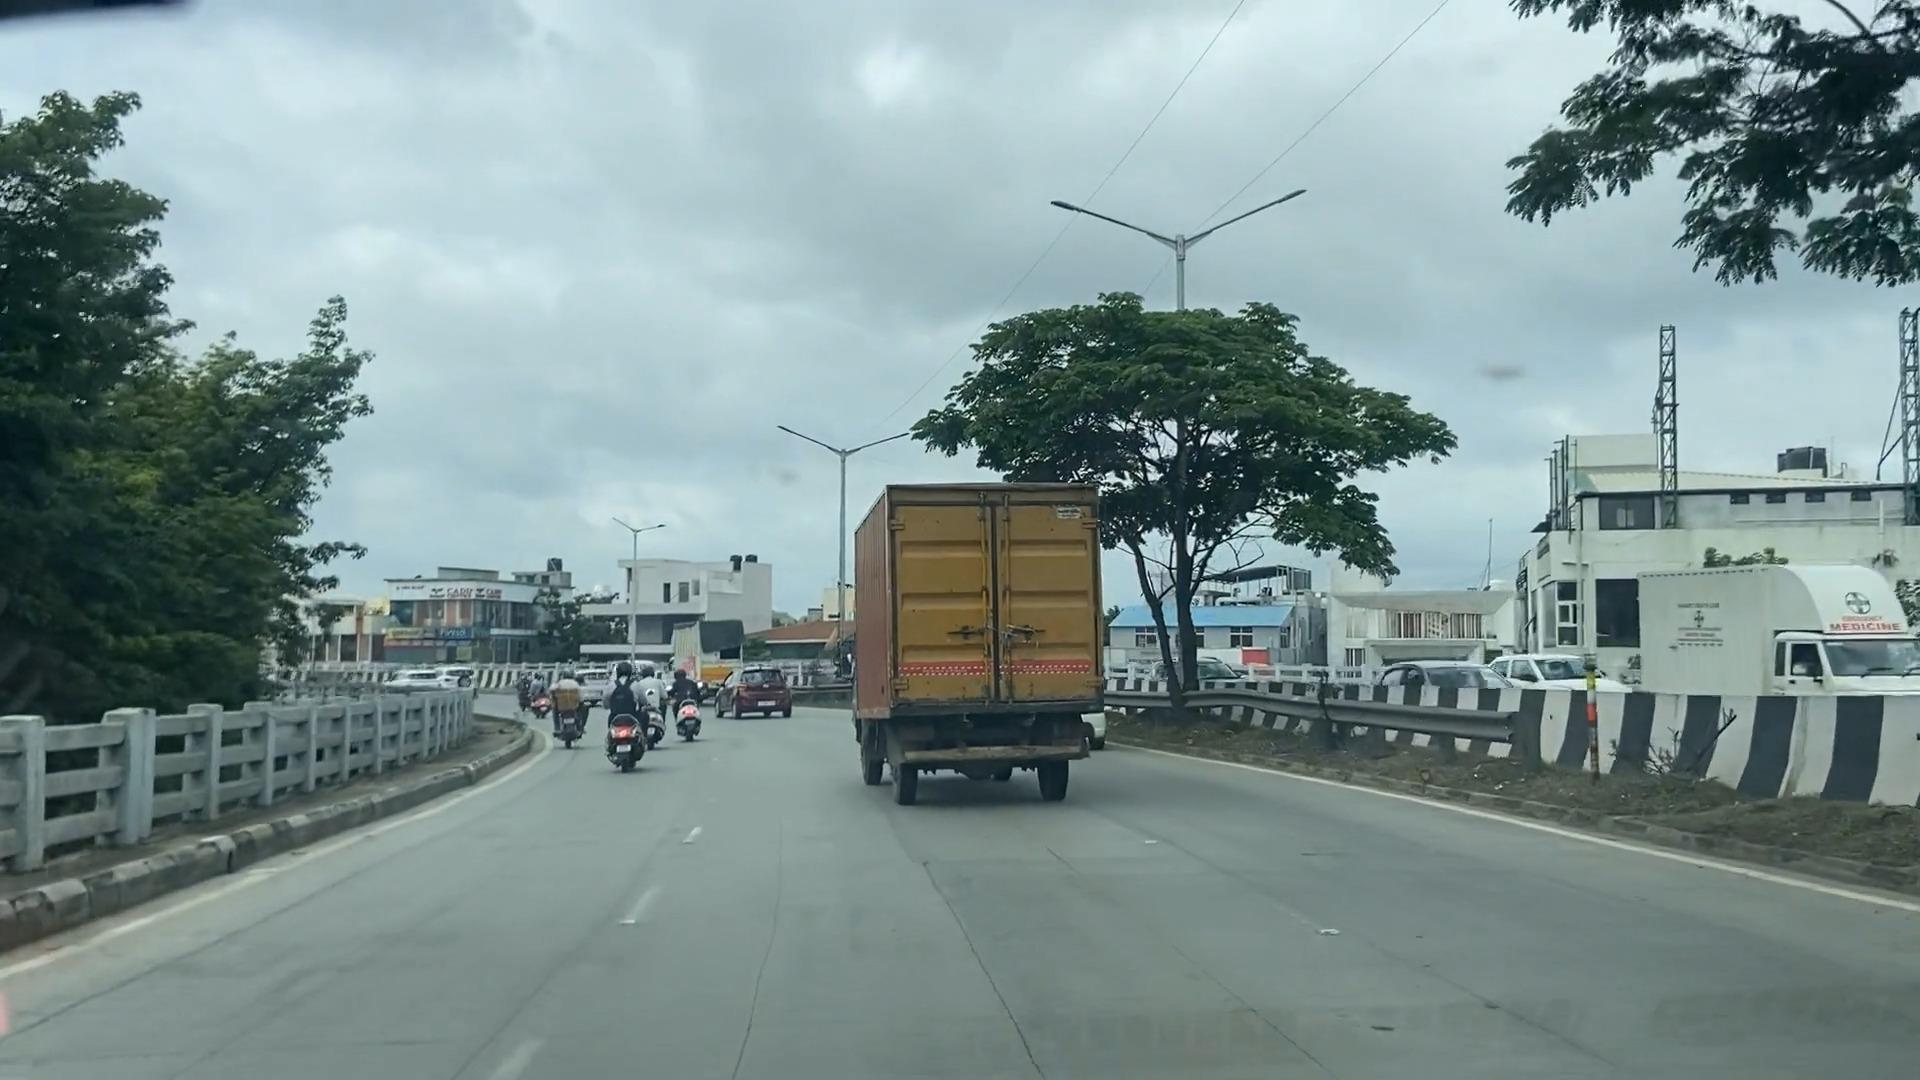HMV: (872, 462, 1102, 811)
LMV: (607, 655, 653, 787), (669, 651, 713, 765), (731, 655, 790, 731)
